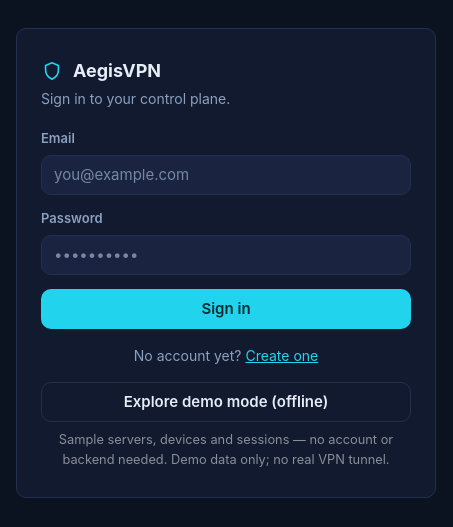
Scenario: Login page › blocks invalid email client-side
The image size is (453, 527).
Step 1. Type "not-an-email" into the field labelled "Email" → x=226, y=175, box [41,155,411,195]
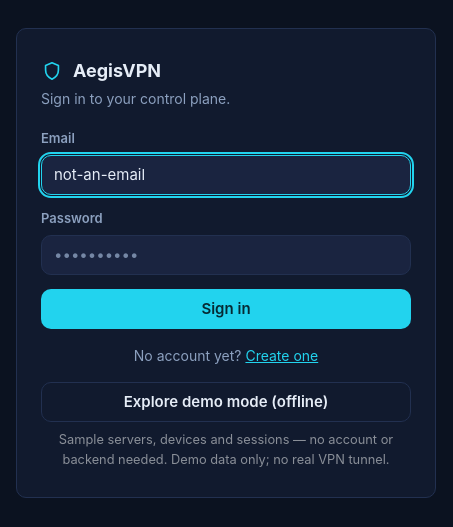
Step 2. Type "whatever123" into the password field labelled "Password" → x=226, y=255, box [41,235,411,275]
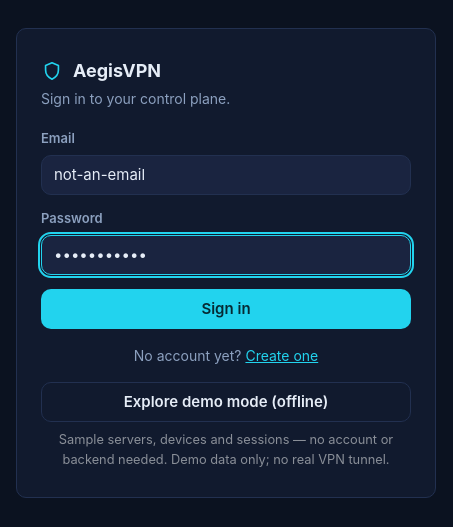
Step 3. Click the button "Sign in" → x=226, y=309, box [41,289,411,329]
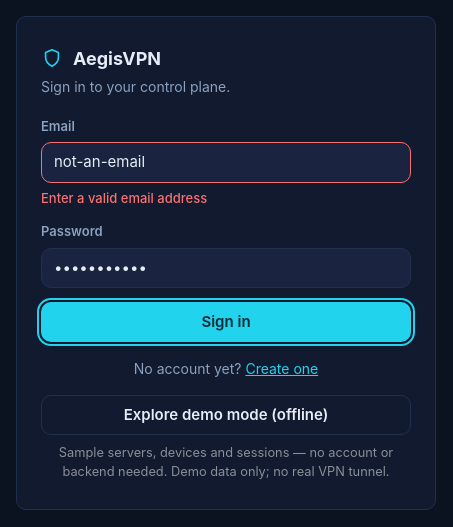
Check: the text "Enter a valid email address" is shown, box [41,190,207,206]
